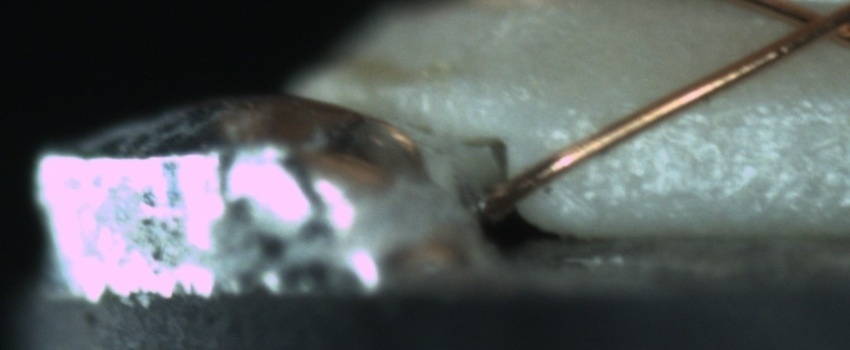CL: (778, 1, 849, 48)
DL: (677, 87, 849, 147)
